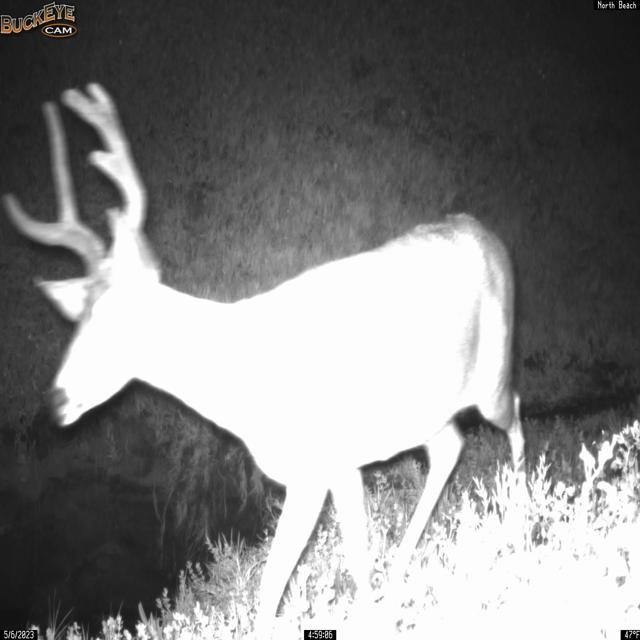deer: (1, 80, 530, 640)
